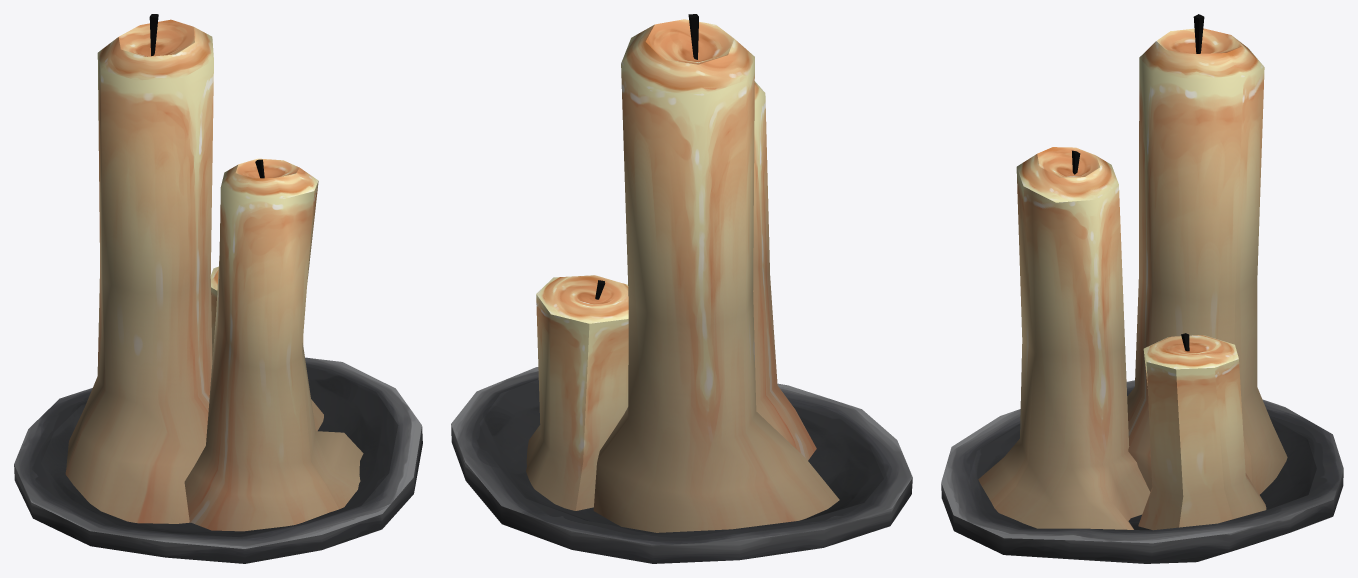
Rendered from SM_PROP_candle_dungeon_07.fbx.
The picture shows the model from 3 angles, left to right: view 1: azimuth 30°, elevation 25°; view 2: azimuth 150°, elevation 25°; view 3: azimuth 270°, elevation 25°; orthographic projection. The views are drawn at different scales.
Visible parts, largest first — view 1: SM_PROP_candle_dungeon_07; view 2: SM_PROP_candle_dungeon_07; view 3: SM_PROP_candle_dungeon_07.
Part boxes in pixels (bbox=[...]): SM_PROP_candle_dungeon_07: bbox=[14, 14, 422, 563]; SM_PROP_candle_dungeon_07: bbox=[451, 14, 912, 563]; SM_PROP_candle_dungeon_07: bbox=[941, 14, 1343, 563].
Bounding box in the file's own units: 26.32 × 32.02 × 24.3.
